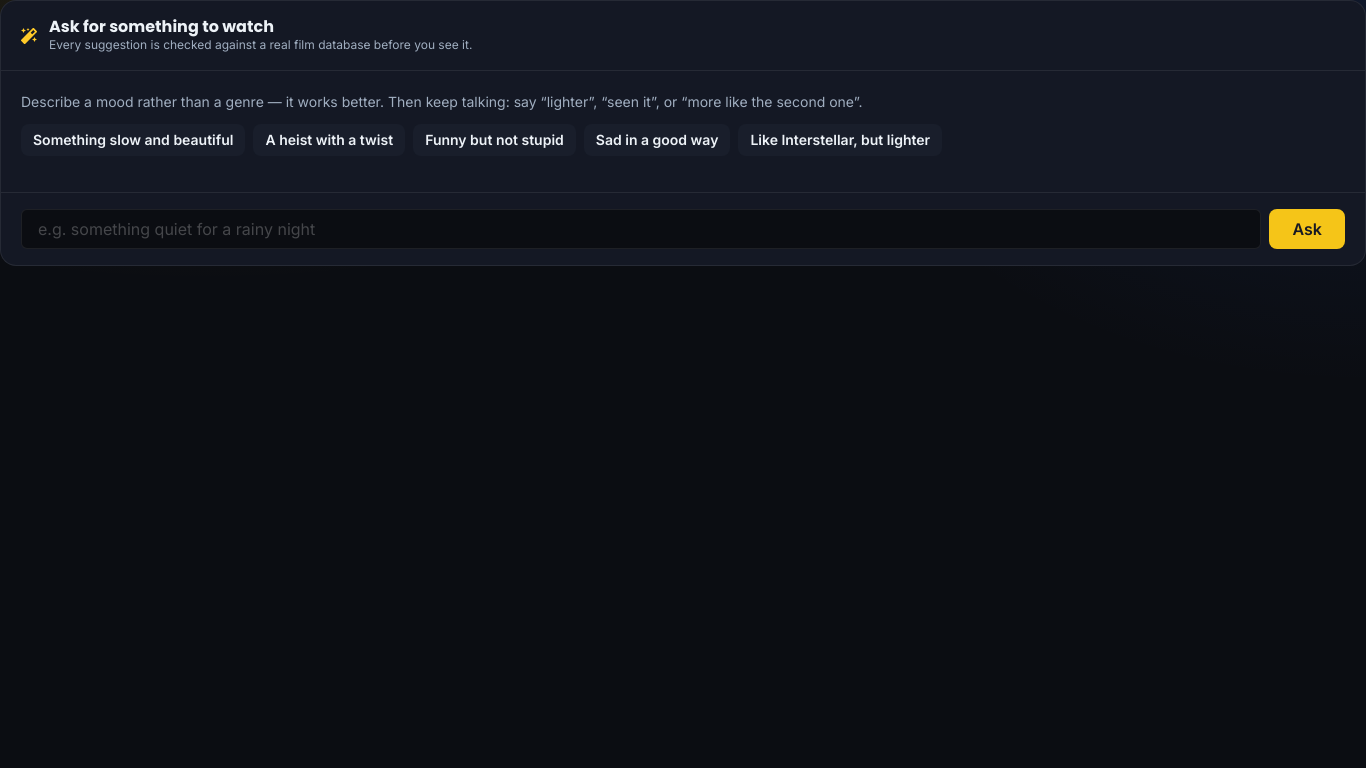
the recommendation conversation › shows the question, the reply and the films
Type "something quiet" into the field named "Describe what you want to watch" at (641, 229), box [21,209,1262,249]
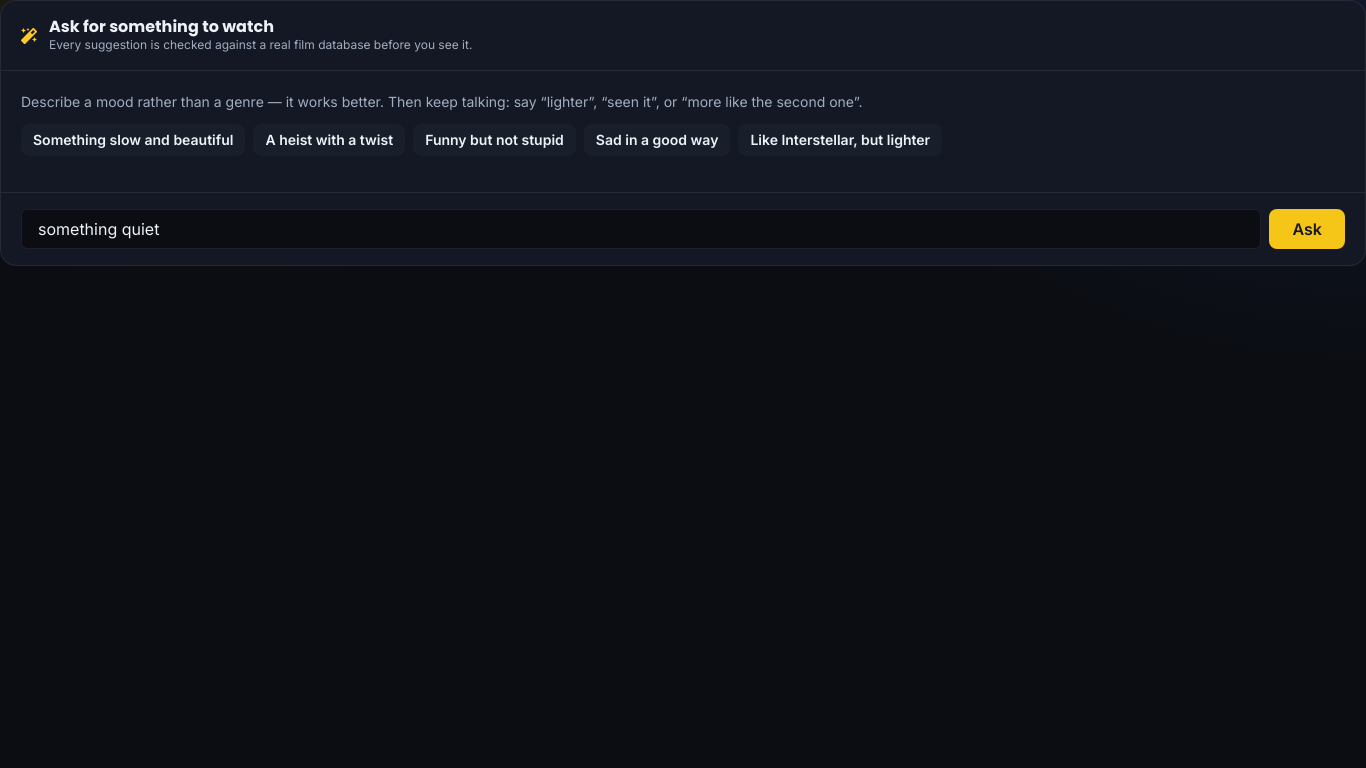
Click the button "Ask" at (1307, 229), box [1270,209,1345,249]
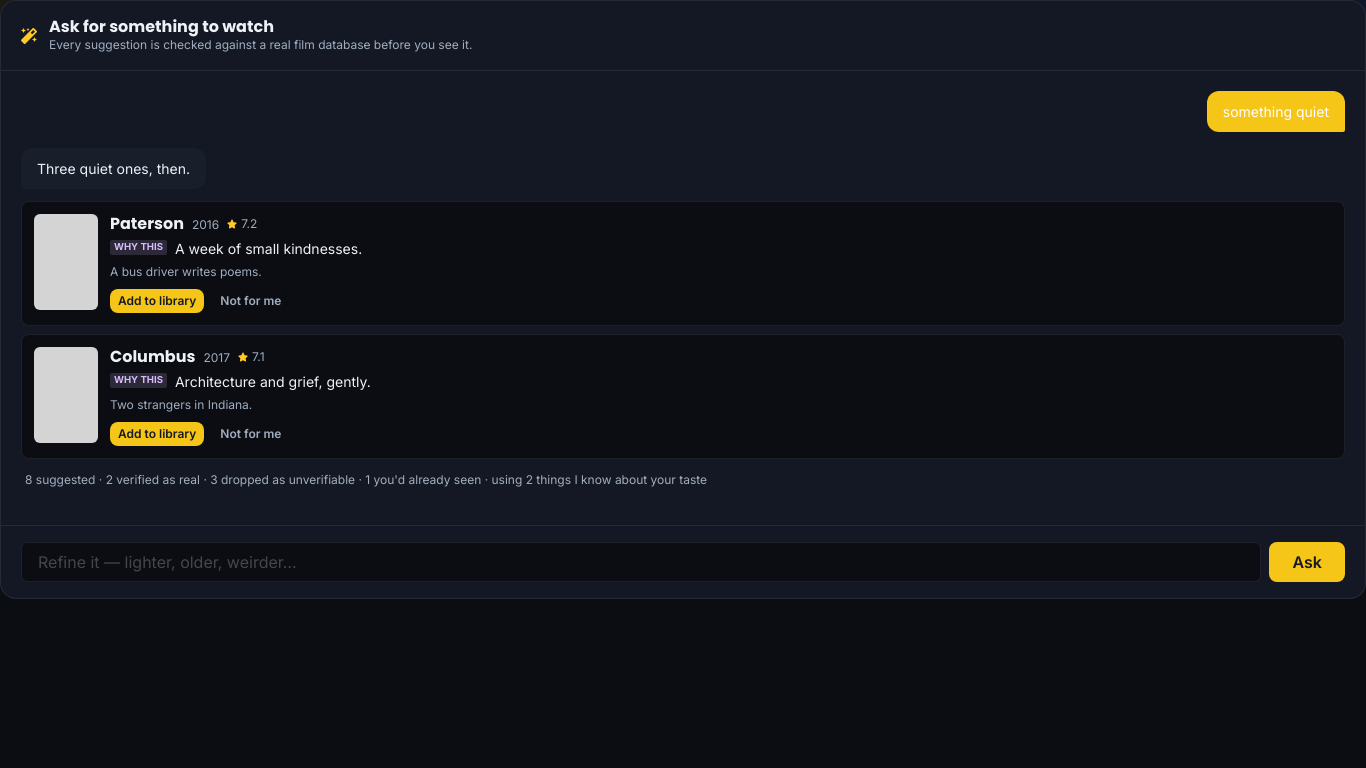
expect the text "something quiet" is shown: met, box [1223,101,1329,122]
expect the text "Three quiet ones, then." is shown: met, box [37,158,190,179]
expect the heading "Paterson" is shown: met, box [110,214,184,233]
